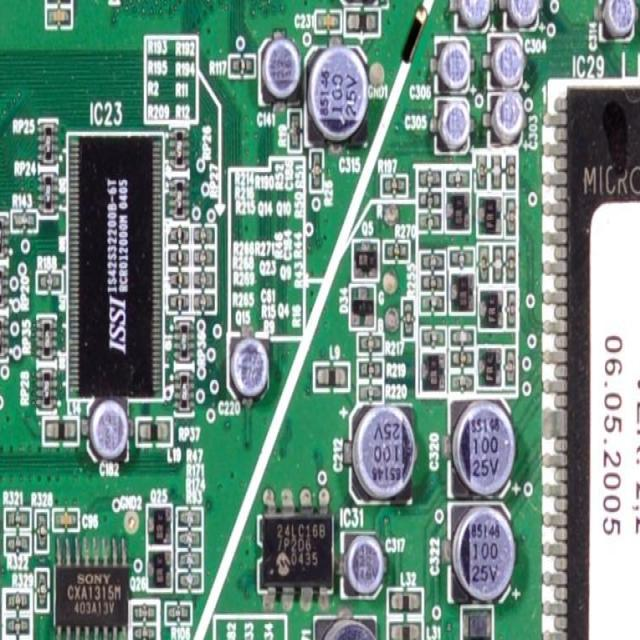IC: (72, 137, 157, 391), (260, 517, 328, 589), (54, 567, 130, 627)
capacitor: (312, 59, 362, 124), (466, 412, 510, 484), (359, 421, 402, 494), (464, 515, 504, 584), (231, 339, 264, 393), (268, 45, 300, 88), (438, 110, 466, 156), (352, 541, 378, 588), (498, 37, 516, 80), (494, 100, 516, 134), (440, 48, 461, 82), (606, 0, 629, 31), (325, 628, 384, 640), (460, 0, 482, 25), (509, 0, 532, 20), (57, 515, 76, 527), (320, 16, 338, 26), (51, 10, 67, 20)
resistor: (382, 176, 410, 192), (175, 508, 199, 524), (288, 114, 298, 150), (12, 212, 32, 229), (384, 240, 404, 257), (35, 271, 59, 285), (5, 538, 26, 554), (8, 592, 30, 607), (192, 226, 210, 244), (134, 602, 153, 618), (489, 152, 498, 182), (8, 509, 26, 524), (358, 337, 377, 351), (362, 388, 382, 401), (406, 300, 414, 331), (178, 554, 201, 564), (170, 604, 189, 616), (196, 293, 211, 308), (234, 60, 250, 74), (504, 158, 512, 186), (505, 354, 513, 382), (476, 157, 484, 184), (422, 172, 437, 186), (507, 250, 514, 280), (195, 275, 216, 285), (39, 514, 45, 548), (137, 625, 154, 637), (310, 157, 317, 186), (171, 227, 186, 240), (453, 372, 468, 385), (506, 293, 512, 324), (422, 209, 435, 223), (450, 172, 465, 184), (193, 254, 211, 264), (479, 244, 485, 274), (180, 536, 200, 545), (424, 329, 440, 340), (10, 617, 29, 626), (170, 252, 184, 264), (493, 250, 499, 278), (453, 326, 467, 338), (39, 577, 44, 606), (180, 577, 196, 586), (450, 252, 465, 261), (169, 295, 184, 304), (360, 367, 376, 375), (424, 280, 438, 289), (453, 352, 468, 360), (424, 253, 437, 262), (172, 272, 185, 281), (425, 296, 438, 304), (510, 200, 513, 232), (422, 195, 435, 202)
transistor: (418, 353, 445, 388), (448, 196, 469, 228), (451, 273, 468, 305), (354, 244, 372, 274), (151, 510, 169, 540), (480, 352, 496, 384), (480, 291, 496, 322), (151, 554, 167, 584), (484, 202, 497, 226)
